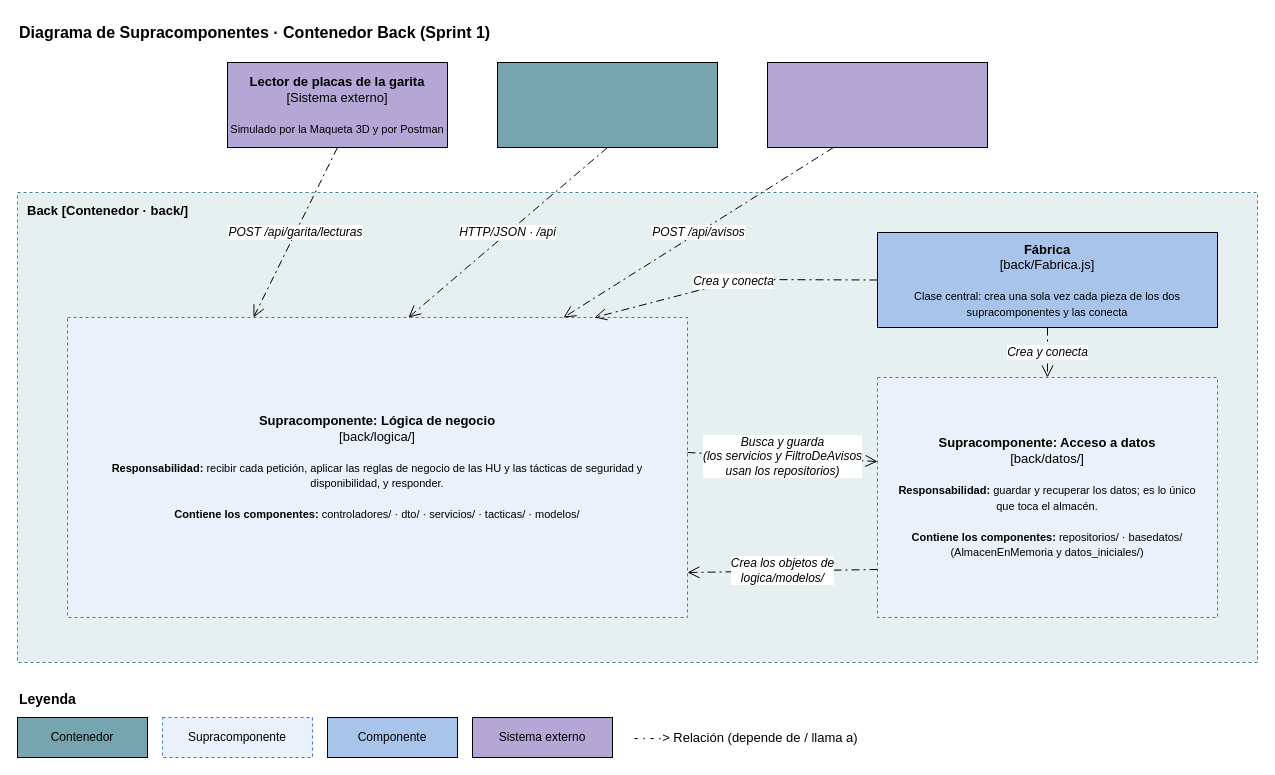
Some shapes in this 1275 by 775 pixel diagram are drawn without their labels. The box of each missing label's shape, as (x1, y1, x2, y2) in pixels:
Front [Contenedor · front/] Pantallas y formularios en el navegador: (496, 62, 718, 148)
Sensores de acceso [Sistema externo] Simulados por la Maqueta 3D y por Postman: (766, 62, 988, 148)
